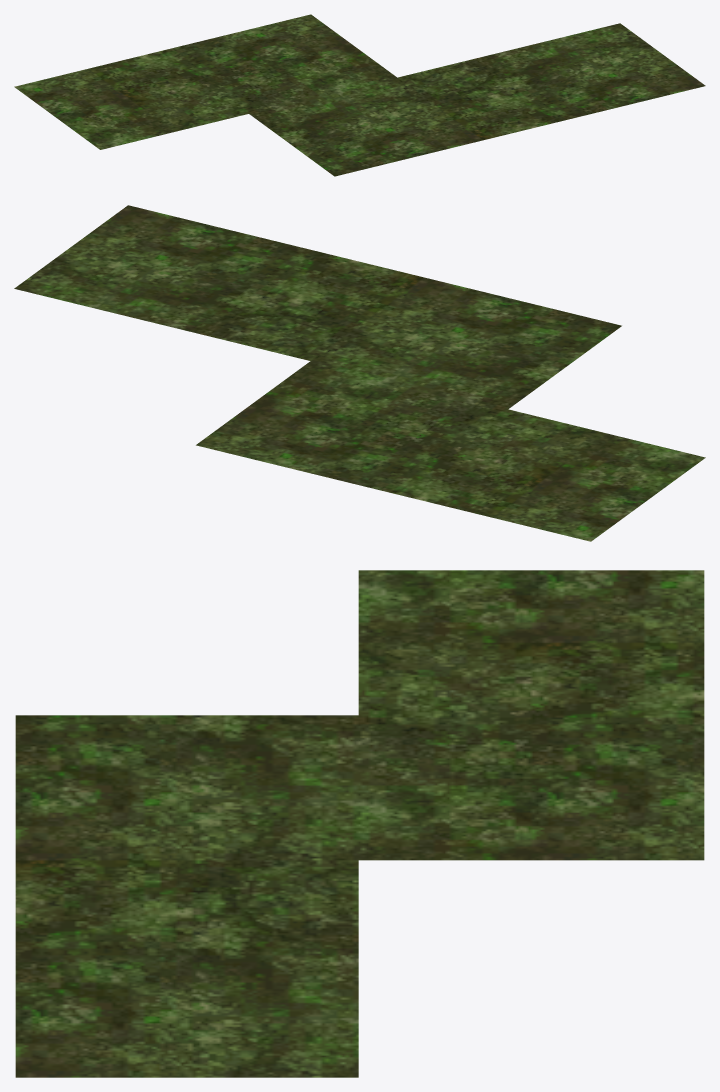
The model's file is OVERHILL_A_01_LINE178.fbx.
The picture shows the model from 3 angles, top to bottom: view 1: azimuth 30°, elevation 25°; view 2: azimuth 150°, elevation 25°; view 3: azimuth 270°, elevation 25°; orthographic projection. The views are drawn at different scales.
Visible parts, largest first — view 1: OVERHILL_A_01_LINE178; view 2: OVERHILL_A_01_LINE178; view 3: OVERHILL_A_01_LINE178.
Part boxes in pixels (x1,y1,x2,y2): OVERHILL_A_01_LINE178: [14, 14, 705, 176]; OVERHILL_A_01_LINE178: [14, 205, 705, 541]; OVERHILL_A_01_LINE178: [15, 570, 704, 1077].
Bounding box in the file's own units: 70000 × 0.00654 × 40148.
Materials: 1 (1 with a texture image).
